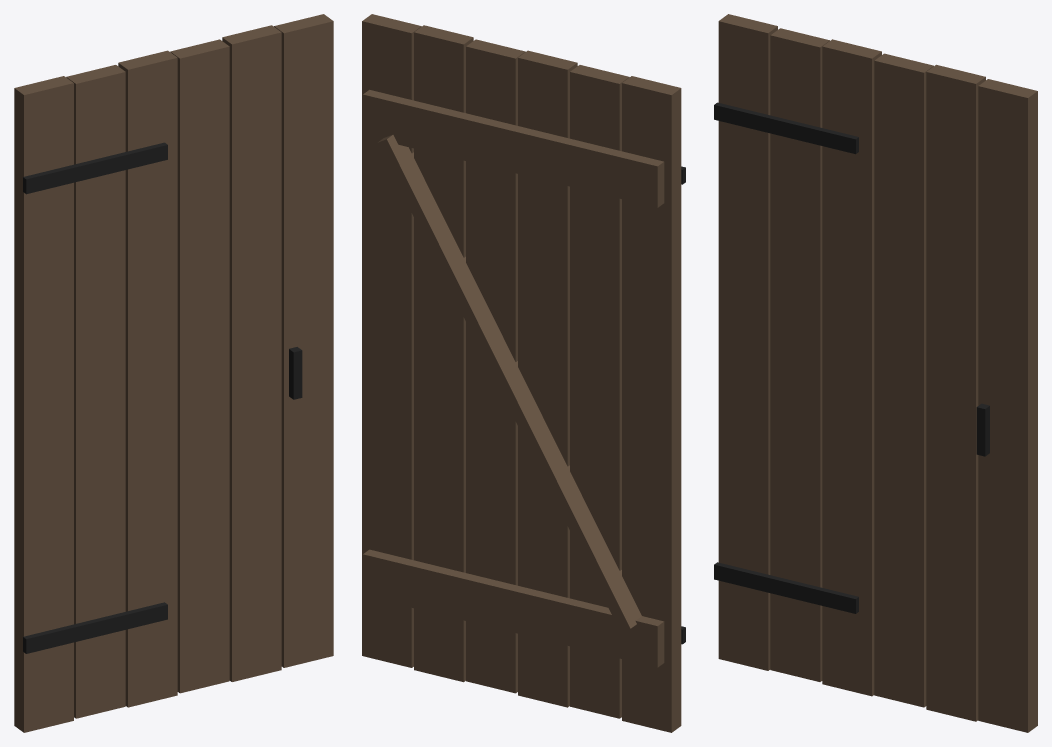
The model's file is SM_Kapi_Kulube.fbx.
3 views of the same model, side by side, from view 1: azimuth 30°, elevation 25°; view 2: azimuth 150°, elevation 25°; view 3: azimuth 330°, elevation 25° (orthographic).
Visible parts, largest first — view 1: Kapi_Kulube; view 2: Kapi_Kulube; view 3: Kapi_Kulube.
Boxes of the visible parts, box(x1,y1,x2,y2) form: Kapi_Kulube: box(14, 14, 333, 732); Kapi_Kulube: box(362, 14, 685, 732); Kapi_Kulube: box(714, 14, 1037, 732).
Size of the model in its own units: 110 by 215 by 17.5.
